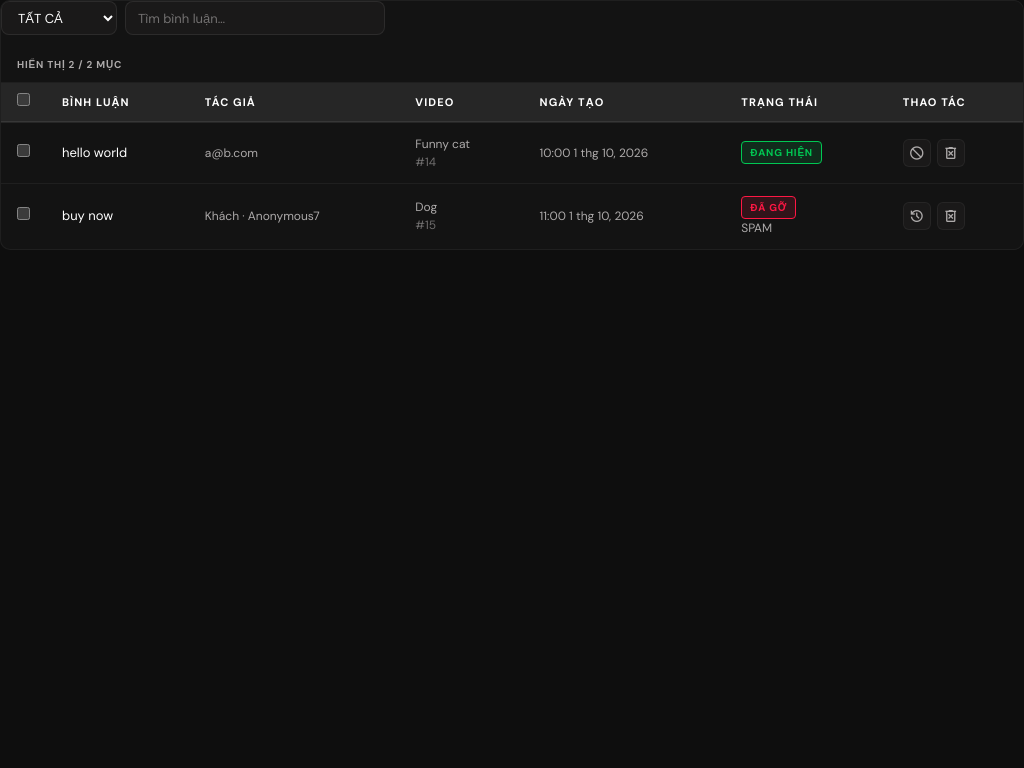
AdminCommentTable › remove requires a reason
Expected: the text "hello world" is shown, 62,144 -> 127,161
Click the button titled "Gỡ" at (917, 152), box 903,138 -> 931,166
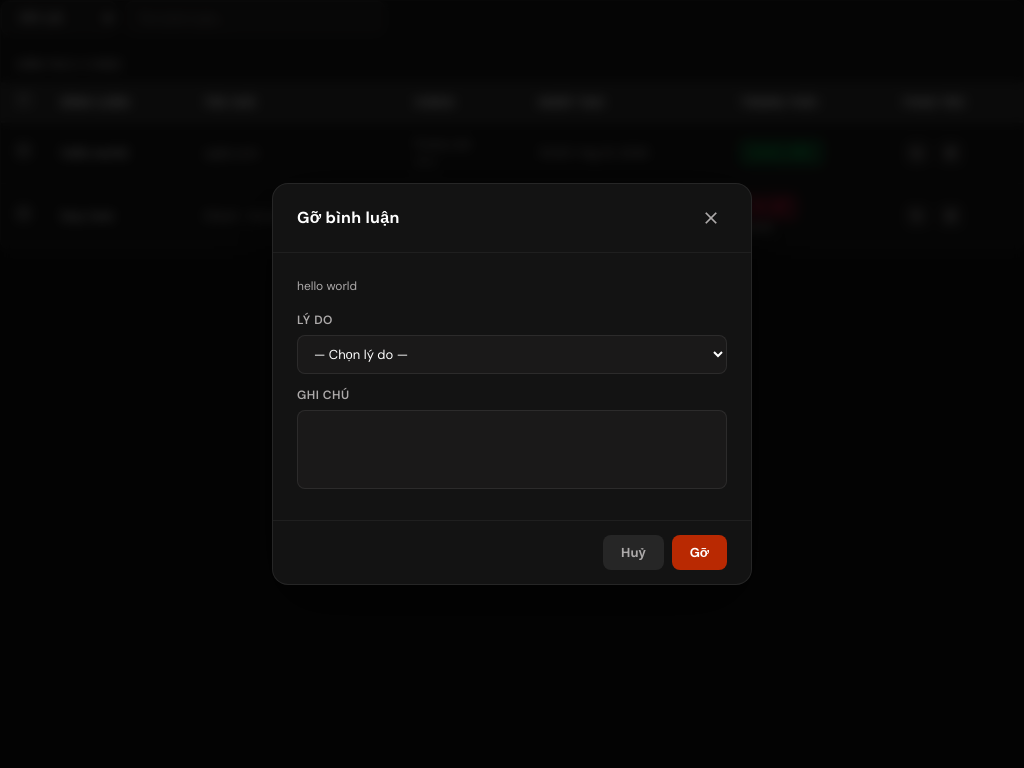
Click the button "Gỡ" at (699, 552), box 672,534 -> 727,570
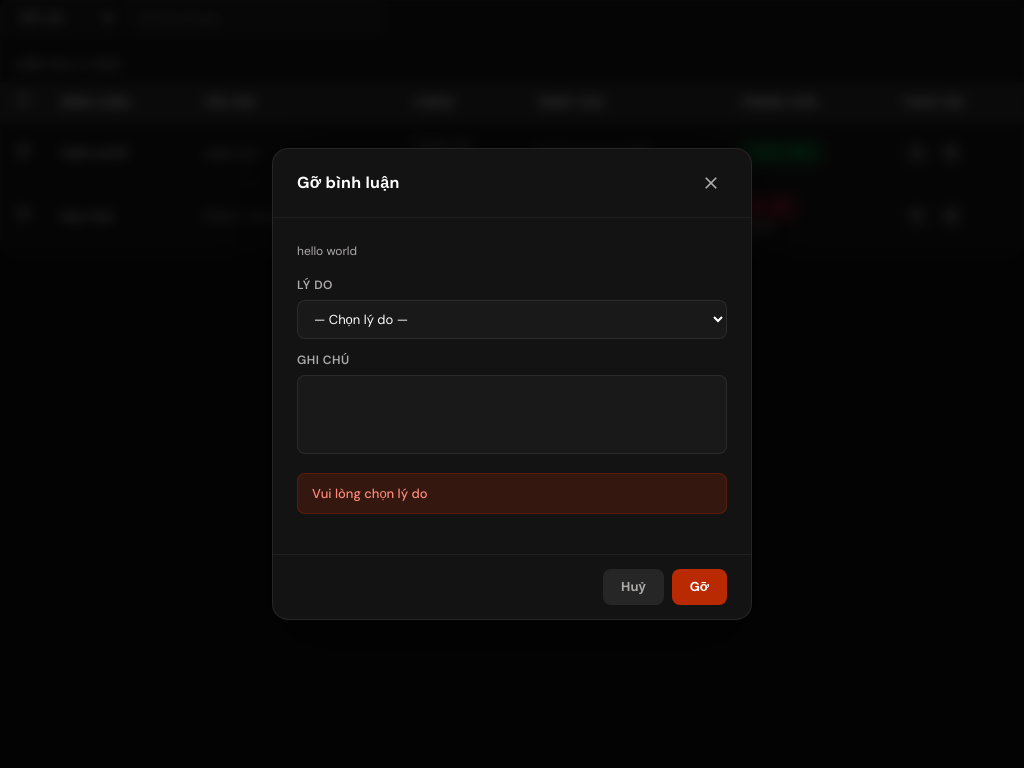
Expected: the message shows "chọn lý do", 312,485 -> 428,502
